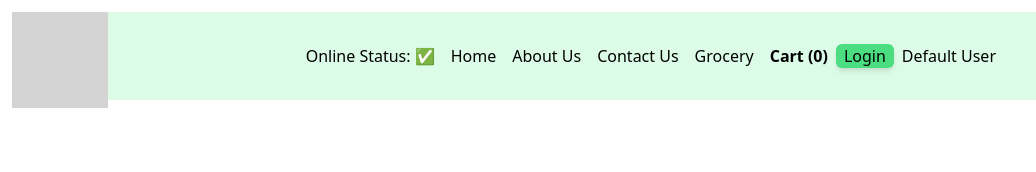
it: Should change LogOut button to LogIn button on click
The image size is (1036, 172).
Click the button "Login".
click(865, 56)  # box [836,44,894,68]
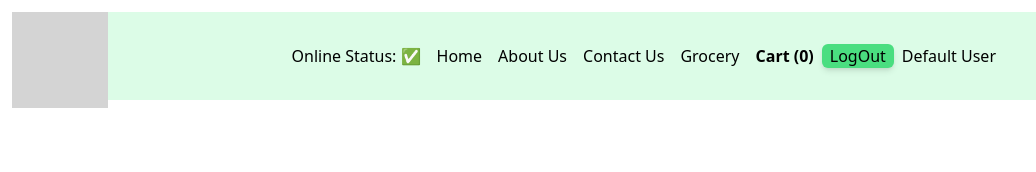
Click the button "LogOut".
click(858, 56)  # box [822,44,894,68]
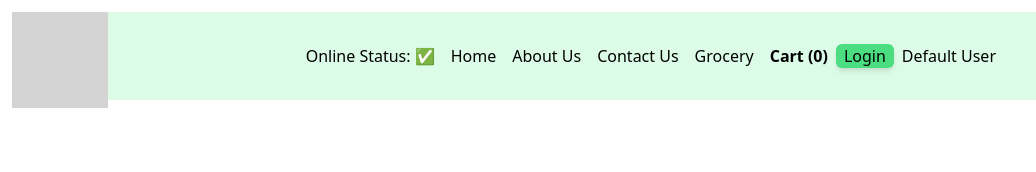
Check: the button "Login" is shown, box [836,44,894,68]
